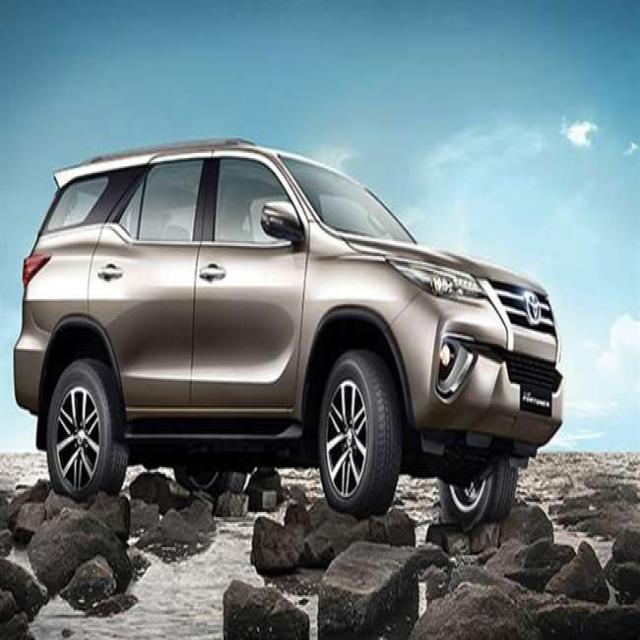light_vehicle: (13, 139, 565, 531)
